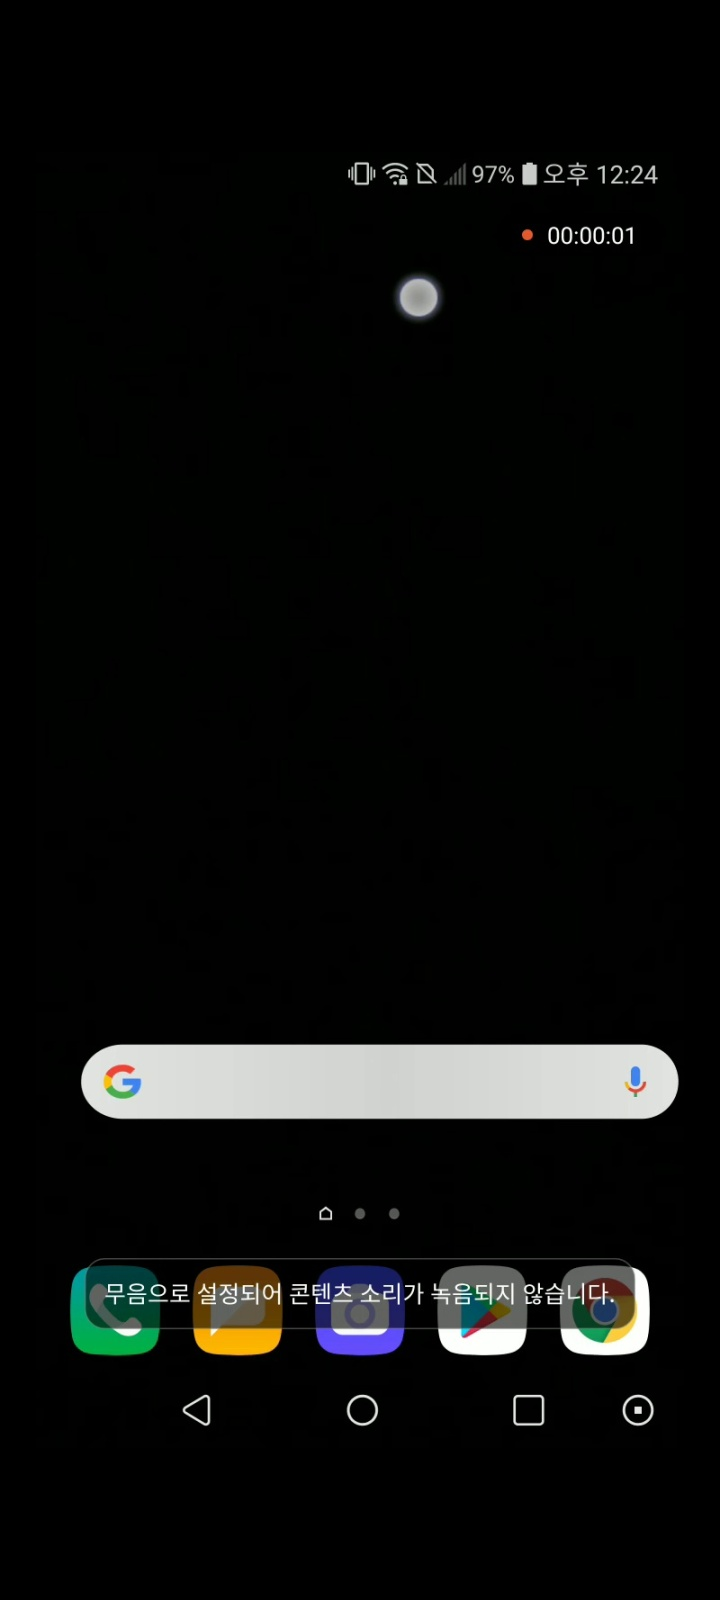Cursor: (396, 276, 441, 320)
